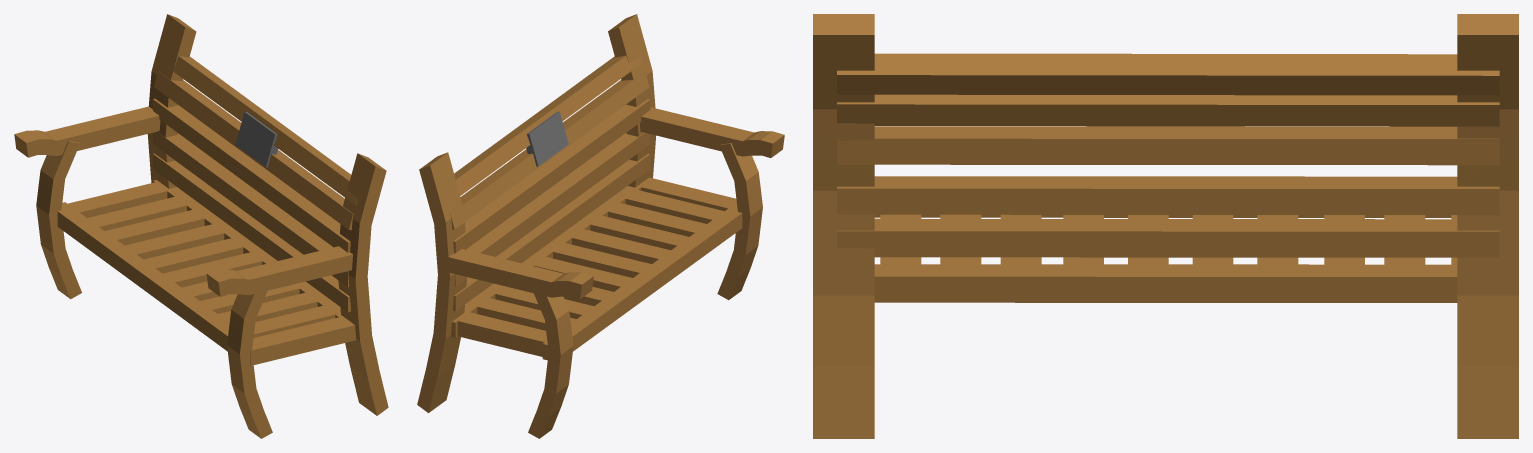
File: Bench.fbx
3 renders of one model, left to right at view 1: azimuth 30°, elevation 25°; view 2: azimuth 150°, elevation 25°; view 3: azimuth 270°, elevation 25°, orthographic. The views are drawn at different scales.
Parts seen in each view (by area): view 1: Cube; view 2: Cube; view 3: Cube.
Part boxes in pixels (left/top/right/bottom): Cube: left=14, top=14, right=388, bottom=438; Cube: left=417, top=14, right=784, bottom=438; Cube: left=813, top=14, right=1518, bottom=438.
Bounding box in the file's own units: 683 × 982 × 1483.
